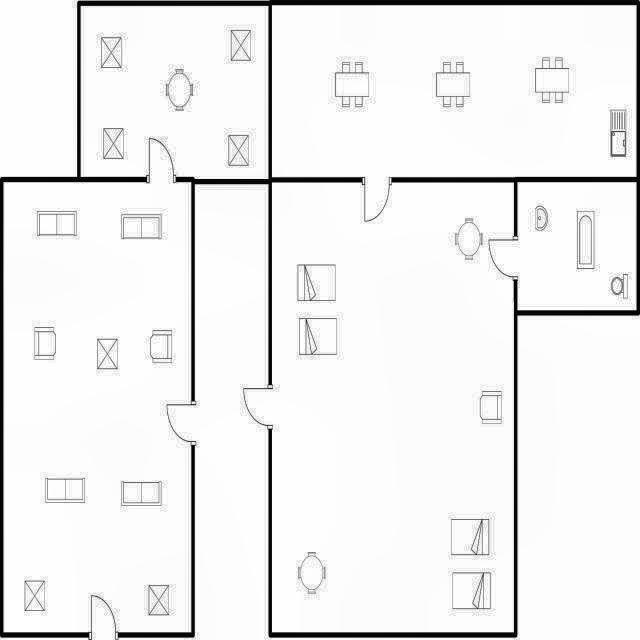room: (272, 183, 514, 632), (4, 182, 191, 630), (273, 5, 636, 177), (81, 7, 268, 177), (518, 182, 636, 310)
